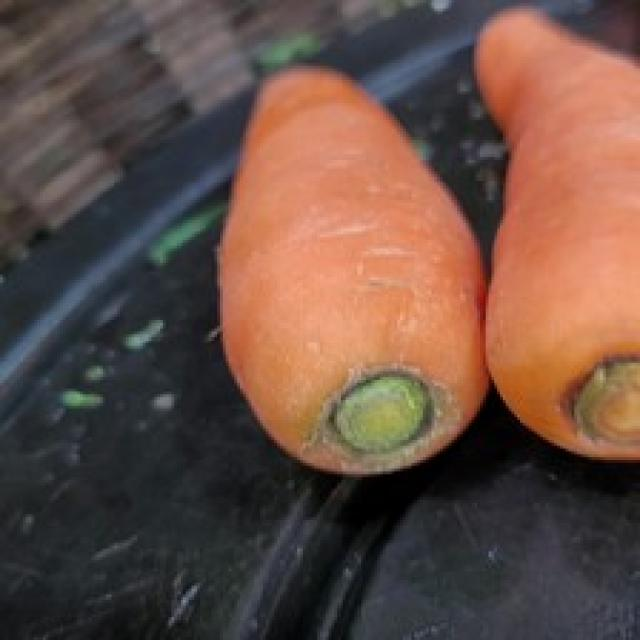Fresh_Carrot: (220, 54, 497, 472), (461, 0, 640, 462)
